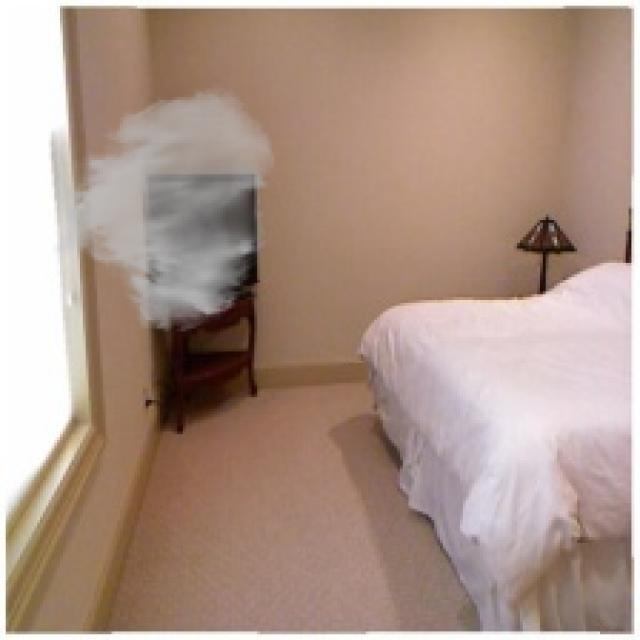smoke: (52, 86, 277, 334)
